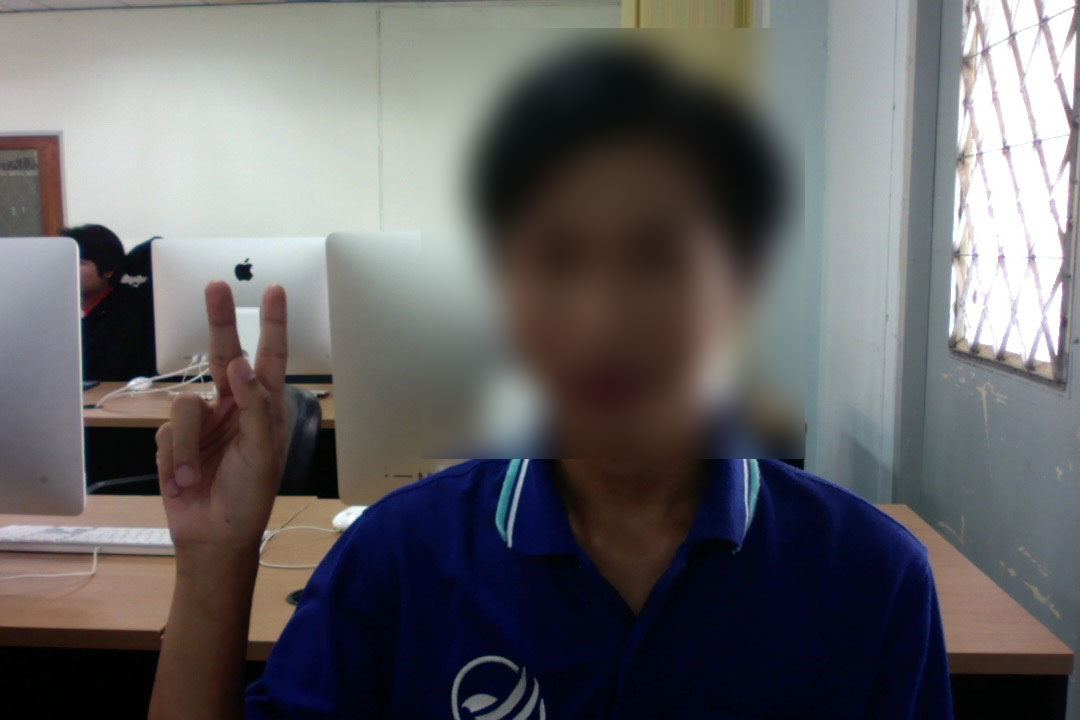ko: (138, 274, 302, 561)
